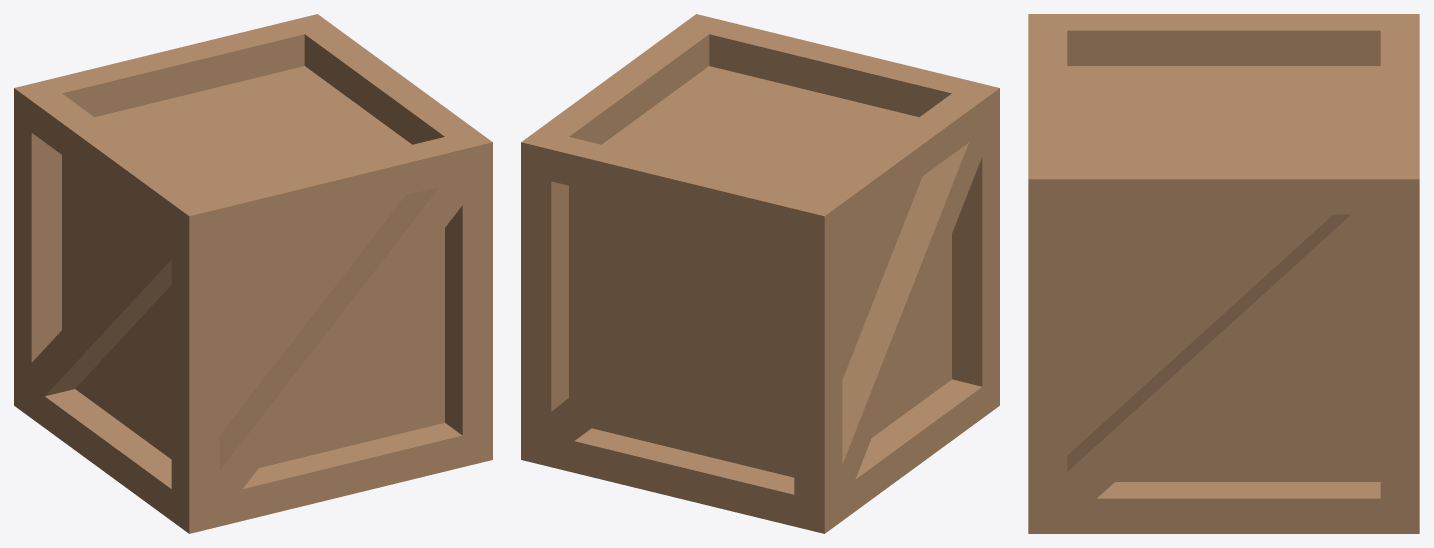
The model's file is closed-box.glb.
The picture shows the model from 3 angles, left to right: view 1: azimuth 30°, elevation 25°; view 2: azimuth 150°, elevation 25°; view 3: azimuth 270°, elevation 25°; orthographic projection. The views are drawn at different scales.
Parts seen in each view (by area): view 1: box_closed; view 2: box_closed; view 3: box_closed.
Part boxes in pixels (bbox=[...]): box_closed: bbox=[14, 14, 492, 533]; box_closed: bbox=[521, 14, 999, 533]; box_closed: bbox=[1028, 14, 1419, 533].
Size of the model in its own units: 0.4 by 0.4 by 0.4.
1 material, 1 textured.
